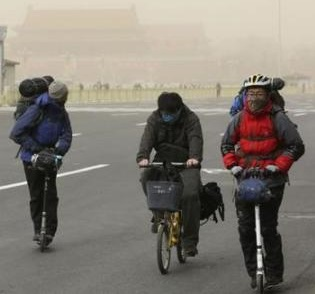person: (220, 69, 308, 293), (136, 89, 211, 273), (7, 73, 79, 255), (215, 82, 222, 98)
